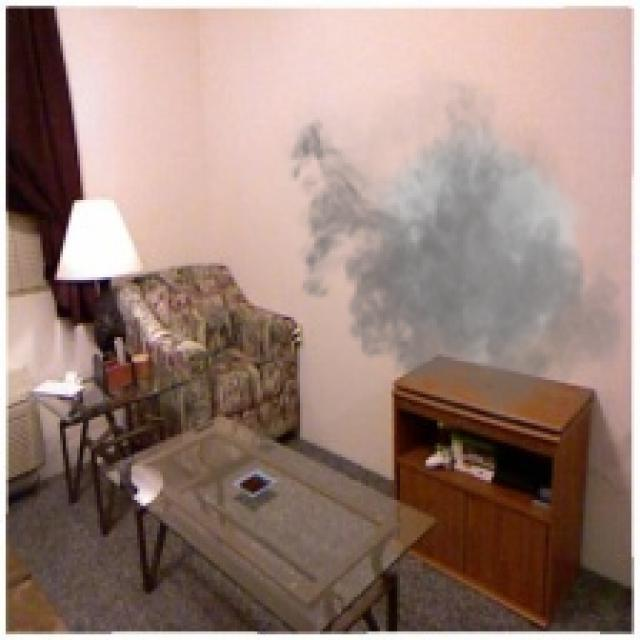Smoke: (277, 57, 637, 440)
